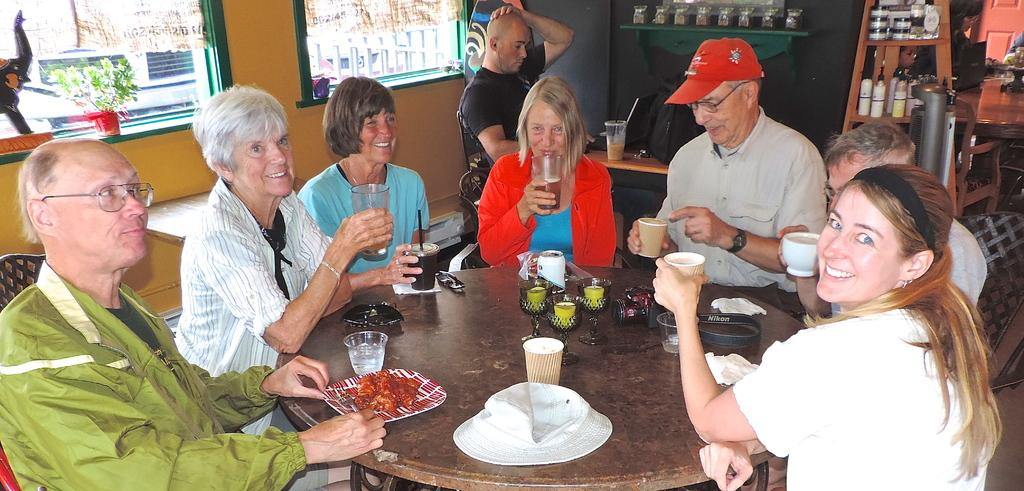Hat: (665, 34, 765, 105)
